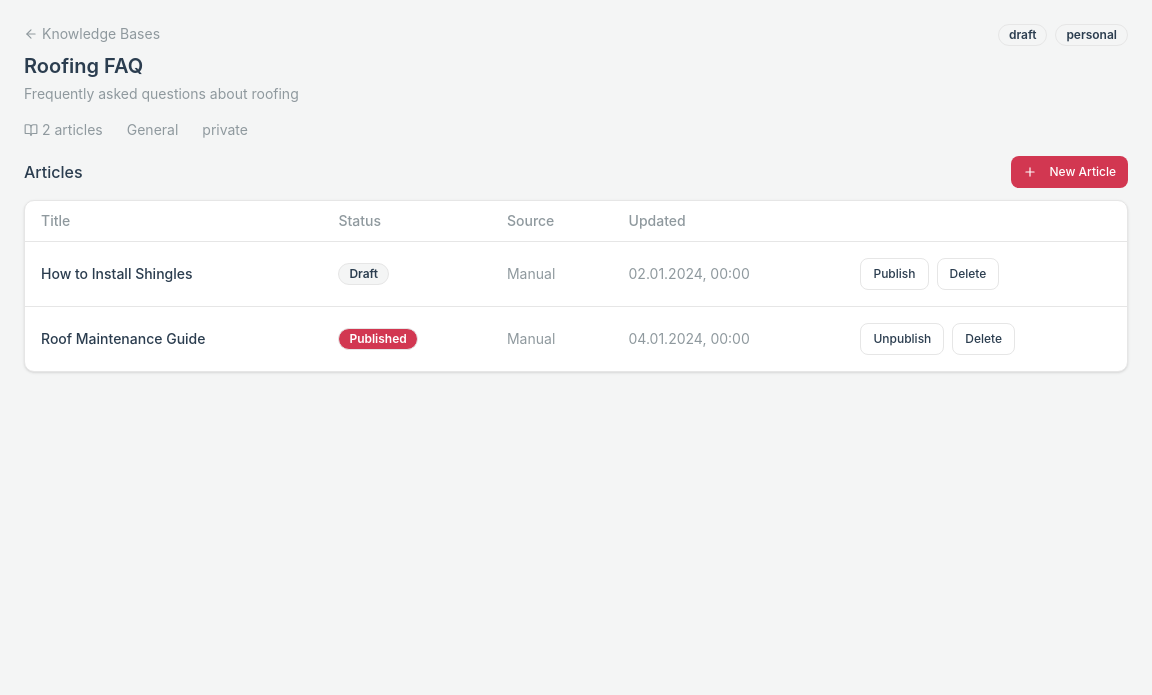
Test: KnowledgeBaseDetailPage › create article form toggles open when create button is clicked
Click the button with test id "kb-article-create-button": (1070, 172) [1012,156,1128,188]
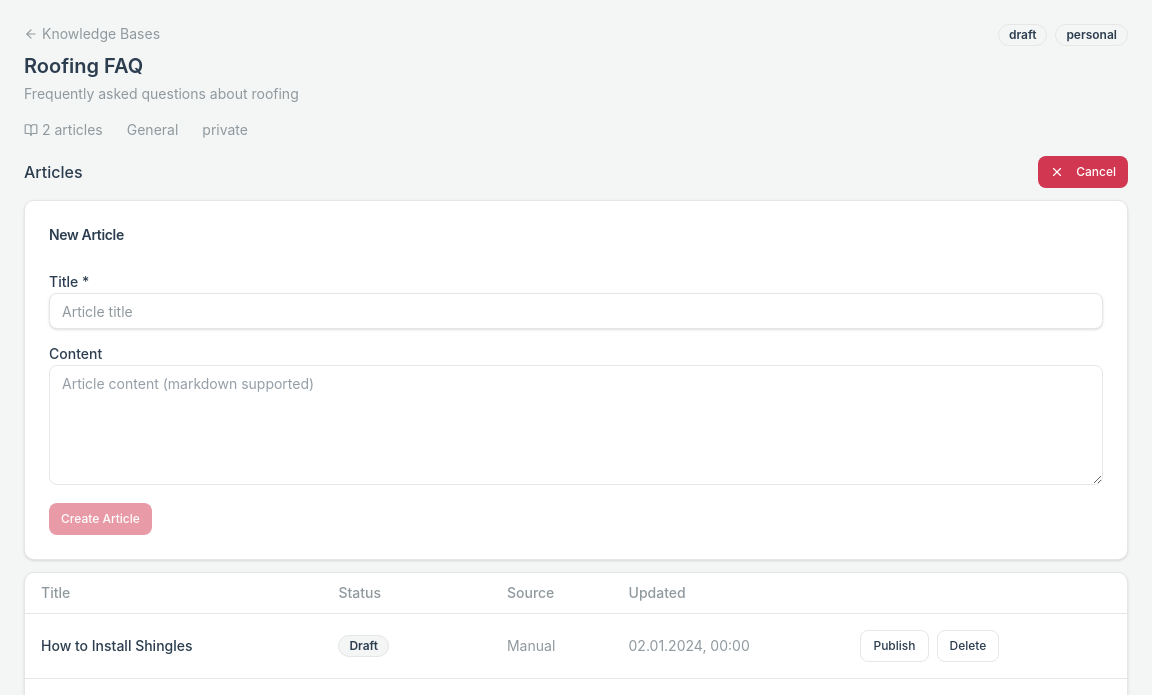
Result: the element with test id "kb-article-create-form" is shown at [24,200,1128,560]
